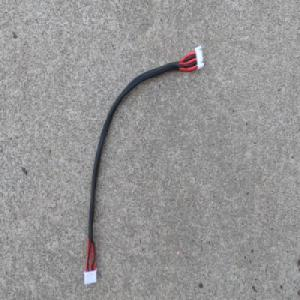Wire: (82, 43, 206, 287)
